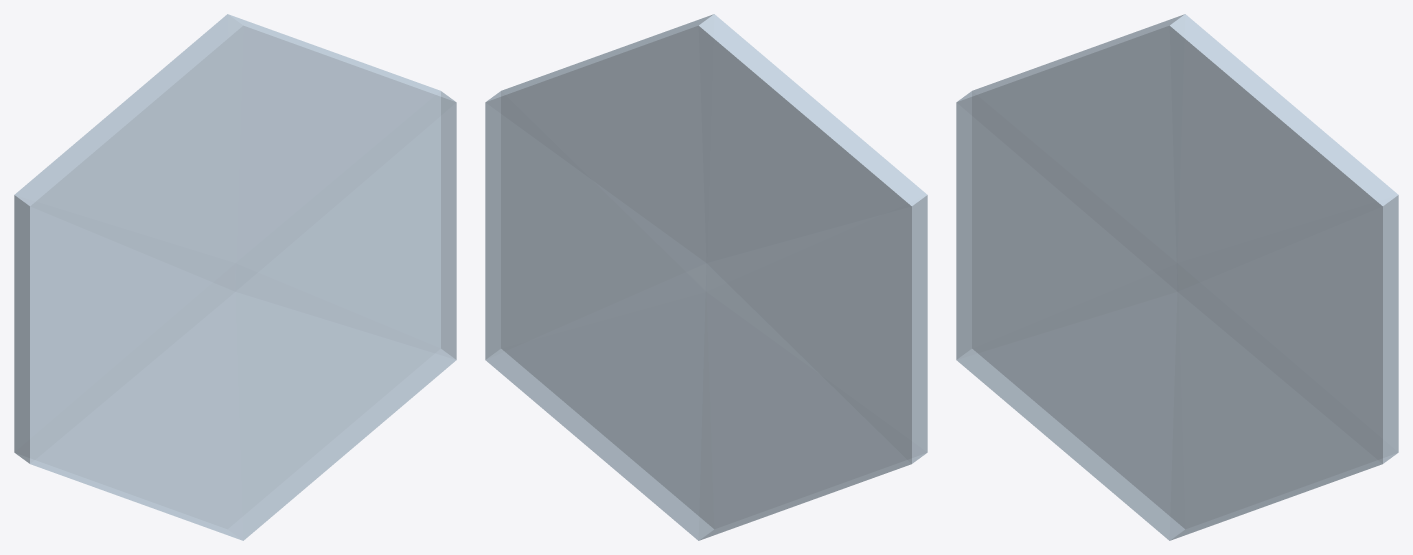
The model's file is Frost.fbx.
The picture shows the model from 3 angles, left to right: view 1: azimuth 30°, elevation 25°; view 2: azimuth 150°, elevation 25°; view 3: azimuth 330°, elevation 25°; orthographic projection.
Parts seen in each view (by area): view 1: Frost; view 2: Frost; view 3: Frost.
Part boxes in pixels (box(x1,y1,x2,y2)): Frost: box(14, 14, 456, 540); Frost: box(485, 14, 927, 540); Frost: box(956, 14, 1398, 540).
Bounding box in the file's own units: 0.7794 × 0.9 × 0.05.
